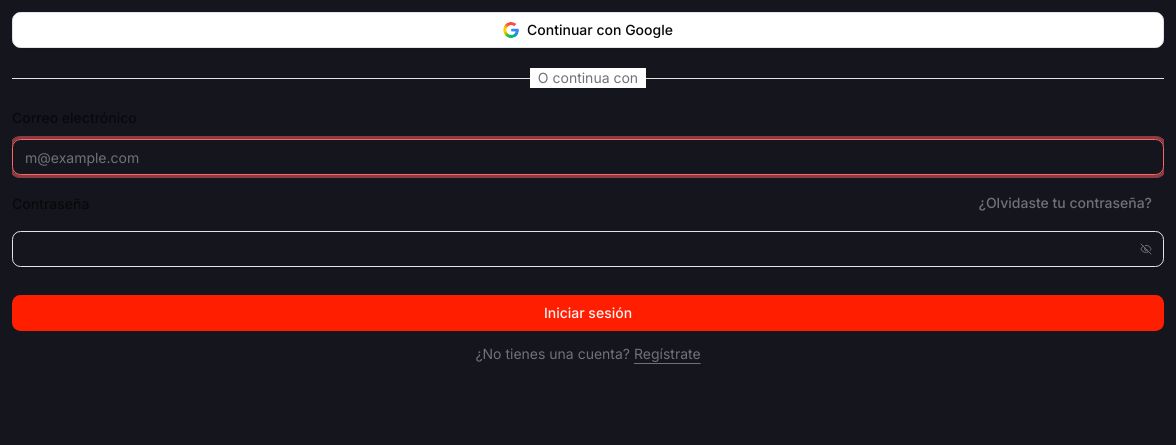
FormLogin › should show validation errors when submitting empty form
Click the button "Iniciar sesión". click: (588, 313)
box: [12,295,1164,331]
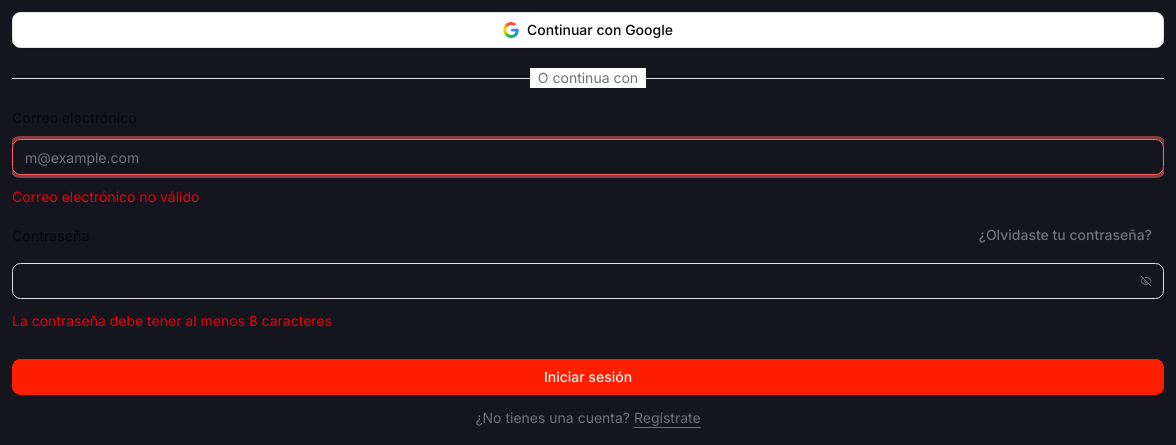
expect the text "Correo electrónico no válido" is shown: met, box [12,188,199,205]
expect the text "La contraseña debe tener al menos 8 caracteres" is shown: met, box [12,312,332,329]
